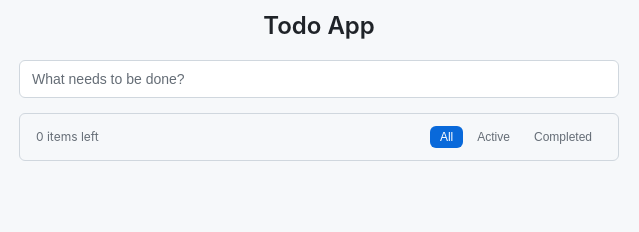
Scenario: App › adds a new todo when Enter is pressed
In the field with placeholder "What needs to be done?": point(319, 79) [19,60,619,98], type "Buy milk"
Then press Enter
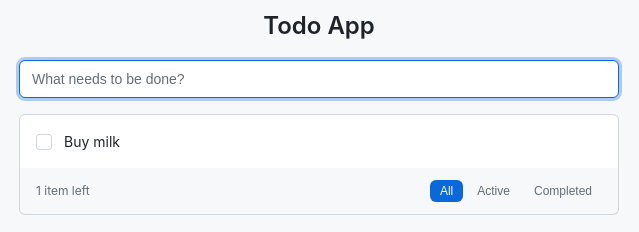
Now the text "Buy milk" is shown, box [64,133,120,150]
Now the text "1 item left" is shown, box [36,182,90,200]
